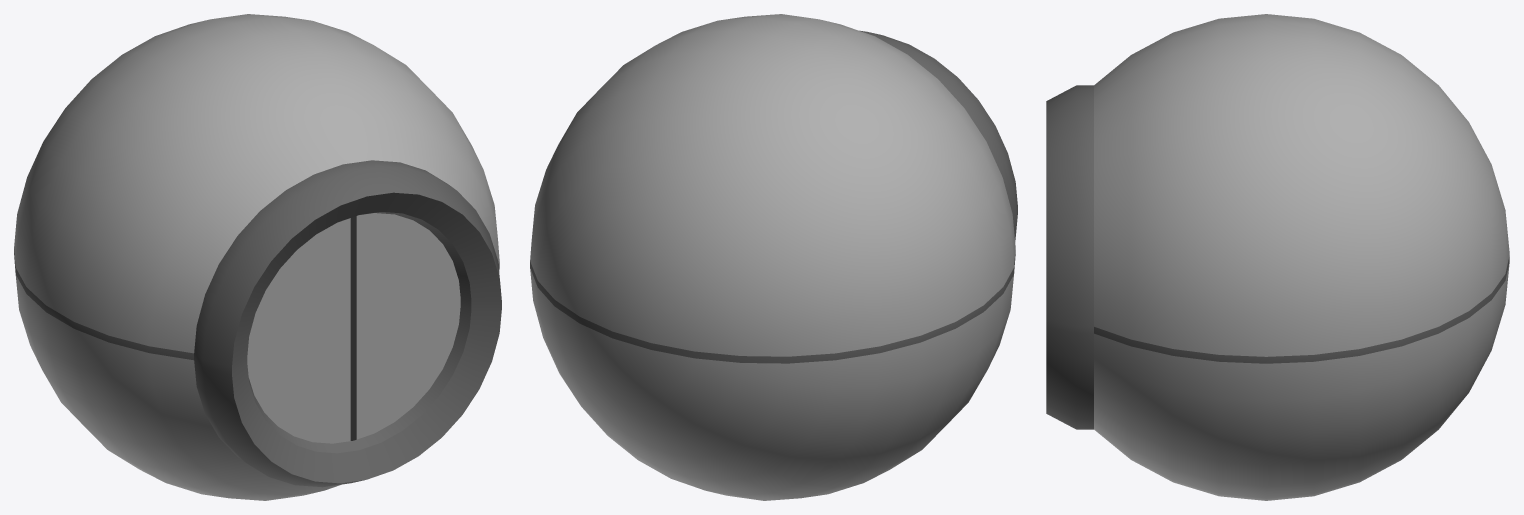
Rendered from House Single.glb.
The picture shows the model from 3 angles, left to right: view 1: azimuth 30°, elevation 25°; view 2: azimuth 150°, elevation 25°; view 3: azimuth 270°, elevation 25°; orthographic projection.
Parts seen in each view (by area): view 1: House_Single; view 2: House_Single; view 3: House_Single.
Part boxes in pixels (bbox=[...]): House_Single: bbox=[14, 14, 501, 500]; House_Single: bbox=[530, 14, 1017, 500]; House_Single: bbox=[1046, 14, 1509, 500].
Size of the model in its own units: 3.99 by 4 by 3.8.
Materials: 1 (1 with a texture image).
